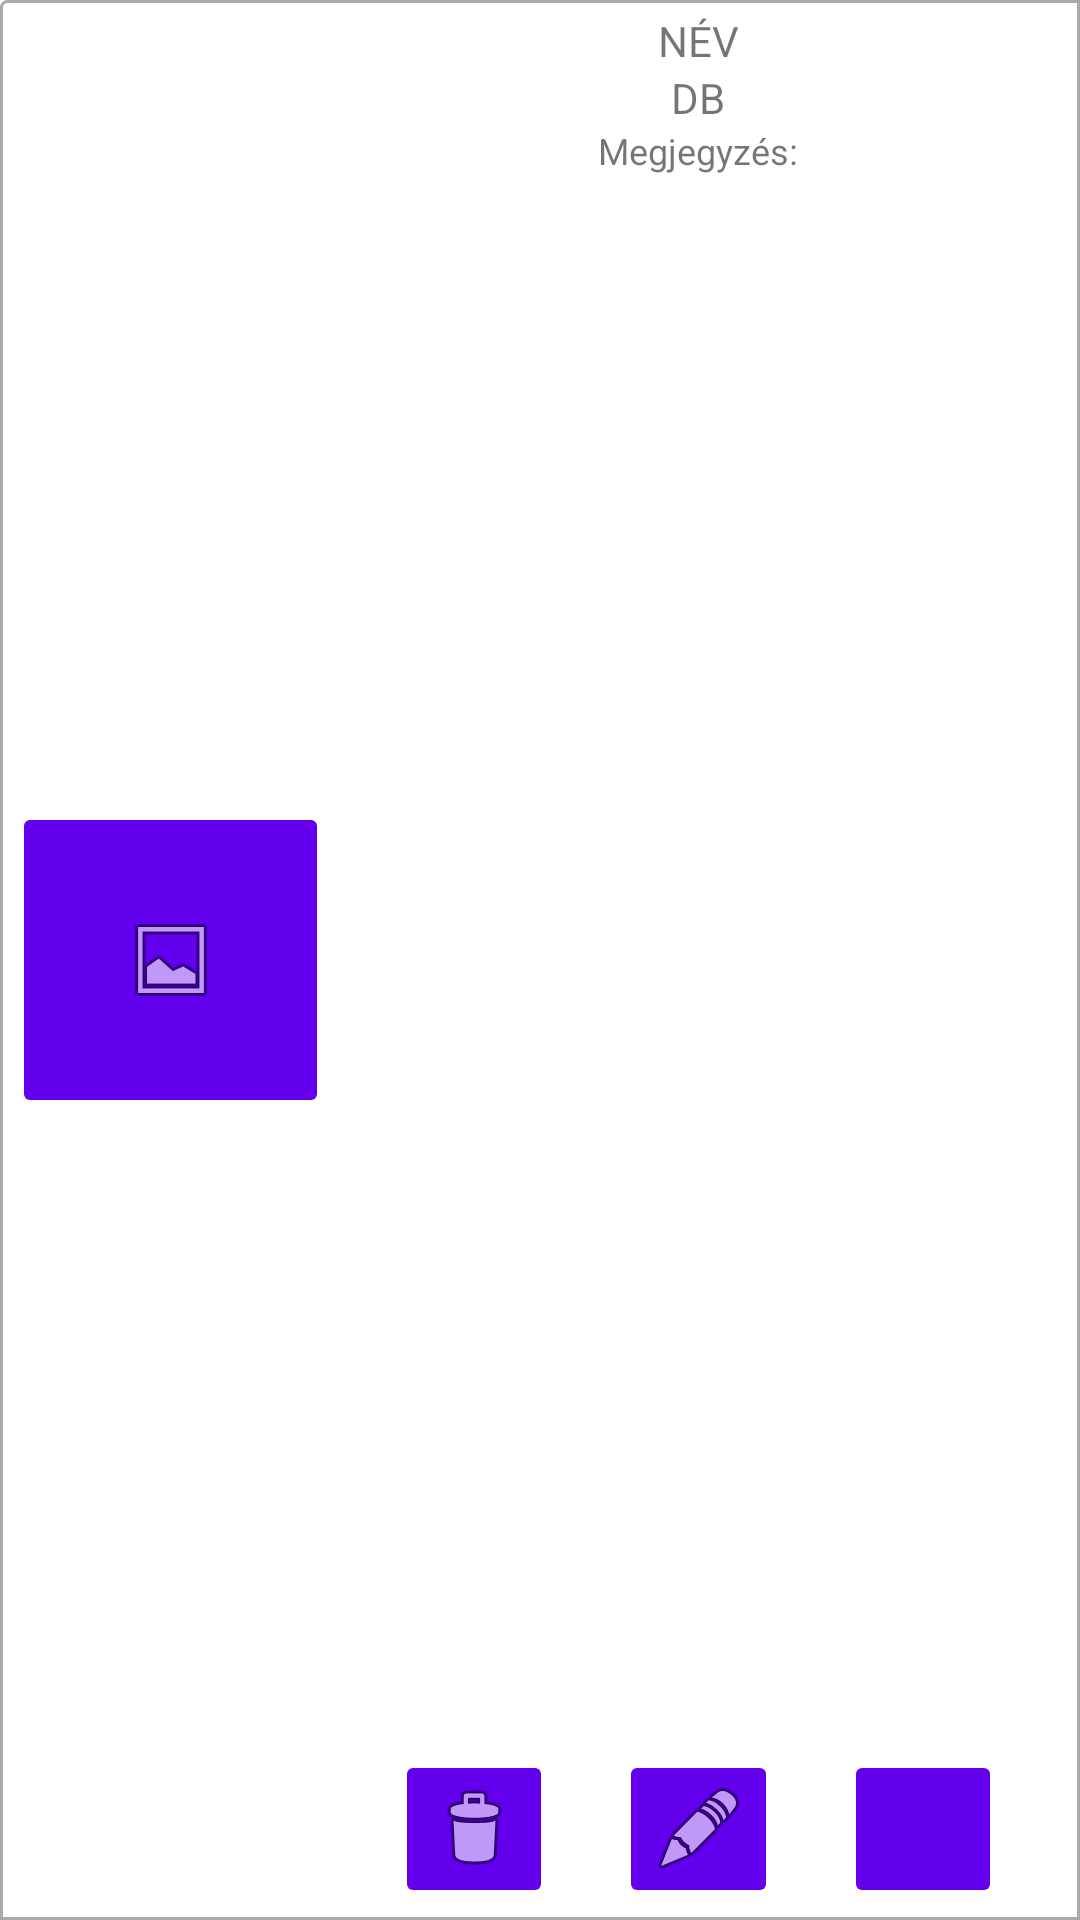

Locate icon controls on the screen. Image size 1080x1920, boxes as (left=x1, top=y1, right=x2, bottom=y2).
delete: (left=407, top=1768, right=541, bottom=1890)
edit: (left=631, top=1768, right=766, bottom=1890)
gallery: (left=24, top=820, right=317, bottom=1100)
